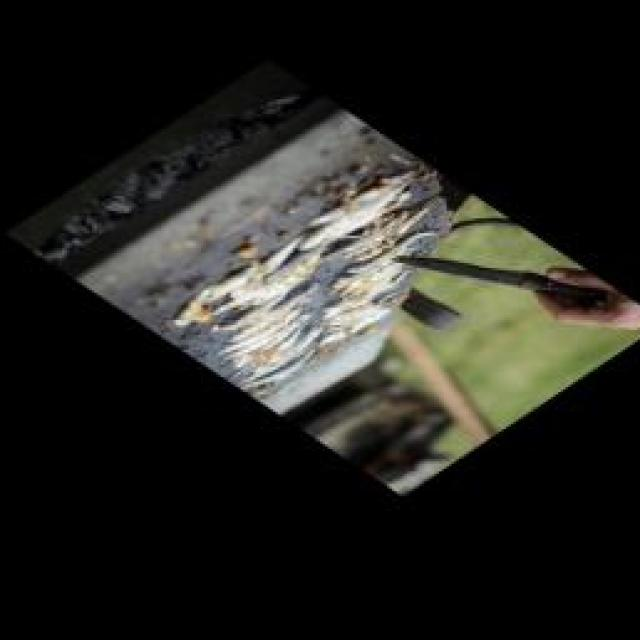knife: (372, 252, 633, 322)
